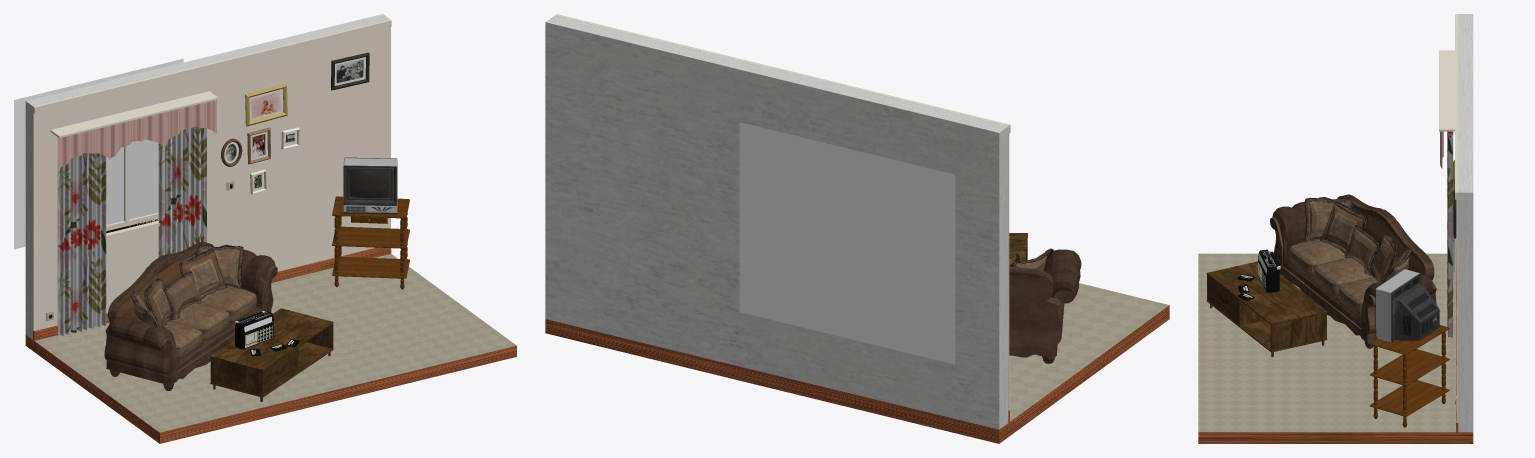
File: kamer80.glb
3 views of the same model, side by side, from view 1: azimuth 30°, elevation 25°; view 2: azimuth 150°, elevation 25°; view 3: azimuth 270°, elevation 25° (orthographic). The views are drawn at different scales.
Visible parts, largest first — view 1: d70_paneel.001, d70_vloer.001, sofa_03, d80_raam_gordijn_links, d80_raam_gordijn_rechts, Cube.003, d70_muur.001, d80_raam_volant, d80_raam_glas, d70_kroonlijst.001, television_02, d80_buiten_lucht (+13 smaller); view 2: d70_muur.001, d80_buiten_lucht, d70_vloer.001, sofa_03, d70_kroonlijst.001; view 3: d70_vloer.001, sofa_03, d70_muur.001, Cube.003, television_02, d80_raam_gordijn_rechts, BaseCenter, Basebot, d80_raam_gordijnkast, Cube.002, d70_kroonlijst.001, BaseTop (+4 smaller).
Boxes of the visible parts, left/top/right/bottom form: d70_paneel.001: left=33, top=27, right=390, bottom=330; d70_vloer.001: left=25, top=254, right=516, bottom=443; sofa_03: left=104, top=241, right=277, bottom=390; d80_raam_gordijn_links: left=57, top=153, right=106, bottom=336; d80_raam_gordijn_rechts: left=158, top=126, right=206, bottom=257; Cube.003: left=210, top=308, right=333, bottom=401; d70_muur.001: left=25, top=14, right=389, bottom=339; d80_raam_volant: left=57, top=100, right=216, bottom=171; d80_raam_glas: left=106, top=139, right=158, bottom=224; d70_kroonlijst.001: left=33, top=19, right=391, bottom=113; television_02: left=343, top=157, right=397, bottom=214; d80_buiten_lucht: left=14, top=58, right=183, bottom=249; d70_muur.001: left=545, top=15, right=1008, bottom=429; d80_buiten_lucht: left=739, top=122, right=955, bottom=364; d70_vloer.001: left=545, top=283, right=1169, bottom=443; sofa_03: left=1009, top=248, right=1081, bottom=363; d70_kroonlijst.001: left=555, top=14, right=1010, bottom=134; d70_vloer.001: left=1198, top=253, right=1473, bottom=443; sofa_03: left=1270, top=194, right=1436, bottom=348; d70_muur.001: left=1458, top=14, right=1473, bottom=432; Cube.003: left=1206, top=261, right=1327, bottom=356; television_02: left=1375, top=269, right=1439, bottom=342; d80_raam_gordijn_rechts: left=1447, top=131, right=1453, bottom=337; BaseCenter: left=1370, top=349, right=1449, bottom=385; Basebot: left=1370, top=380, right=1449, bottom=416; d80_raam_gordijnkast: left=1439, top=50, right=1454, bottom=131; Cube.002: left=1208, top=275, right=1238, bottom=324; d70_kroonlijst.001: left=1455, top=14, right=1458, bottom=199; BaseTop: left=1370, top=325, right=1449, bottom=354.
Size of the model in its own units: 4 by 2.62 by 3.05.
59 materials, 58 textured.
